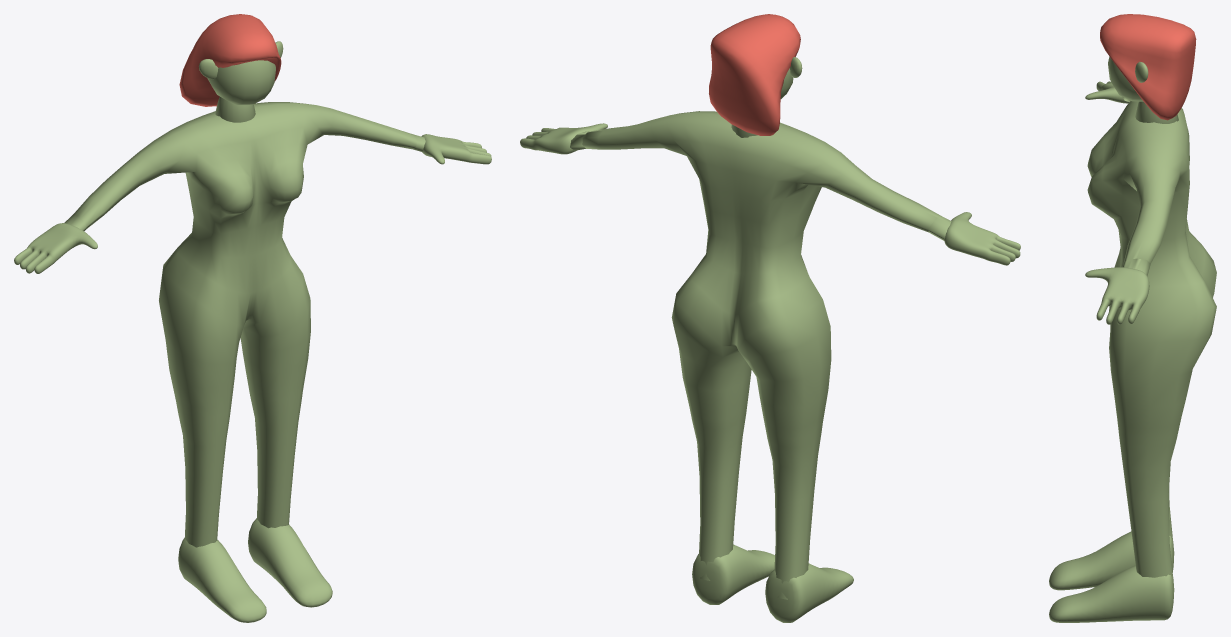
The model's file is female-base.fbx.
3 renders of one model, left to right at view 1: azimuth 30°, elevation 25°; view 2: azimuth 150°, elevation 25°; view 3: azimuth 270°, elevation 25°, orthographic. The views are drawn at different scales.
Parts seen in each view (by area): view 1: body, Cube.001, Cube.002, Cube, head, neck; view 2: body, Cube.002, Cube.001, Cube; view 3: body, Cube.001, Cube.002, Cube, head, neck.
Boxes of the visible parts, x1,y1,x2,y2 form: body: (64,102,425,547); Cube.001: (178,518,332,622); Cube.002: (179,14,281,106); Cube: (14,134,491,273); head: (207,60,275,105); neck: (215,96,255,122); body: (570,111,951,599); Cube.002: (709,14,800,135); Cube.001: (692,544,853,622); Cube: (520,123,1020,265); body: (1087,97,1216,593); Cube.001: (1049,531,1173,622); Cube.002: (1100,14,1196,120); Cube: (1085,81,1149,324); head: (1108,56,1143,101); neck: (1135,101,1178,123).
Size of the model in its own units: 1186 by 353 by 1353.
